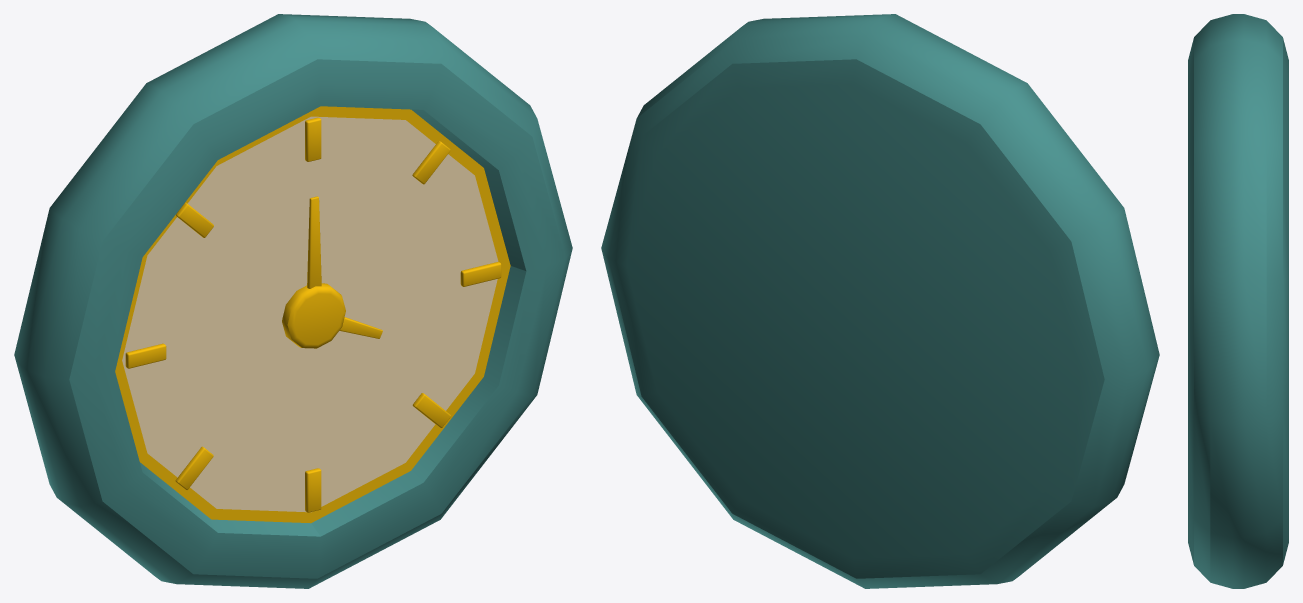
File: Clock_4C.fbx
3 views of the same model, side by side, from view 1: azimuth 30°, elevation 25°; view 2: azimuth 150°, elevation 25°; view 3: azimuth 270°, elevation 25° (orthographic). The views are drawn at different scales.
Visible parts, largest first — view 1: Clock_4C, Clock_4C Attachment_2; view 2: Clock_4C; view 3: Clock_4C.
Boxes of the visible parts, left/top/right/bottom form: Clock_4C: left=14, top=14, right=572, bottom=588; Clock_4C Attachment_2: left=307, top=196, right=321, bottom=288; Clock_4C: left=601, top=14, right=1159, bottom=588; Clock_4C: left=1188, top=14, right=1288, bottom=588.
Size of the model in its own units: 0.321 by 0.321 by 0.0561.
